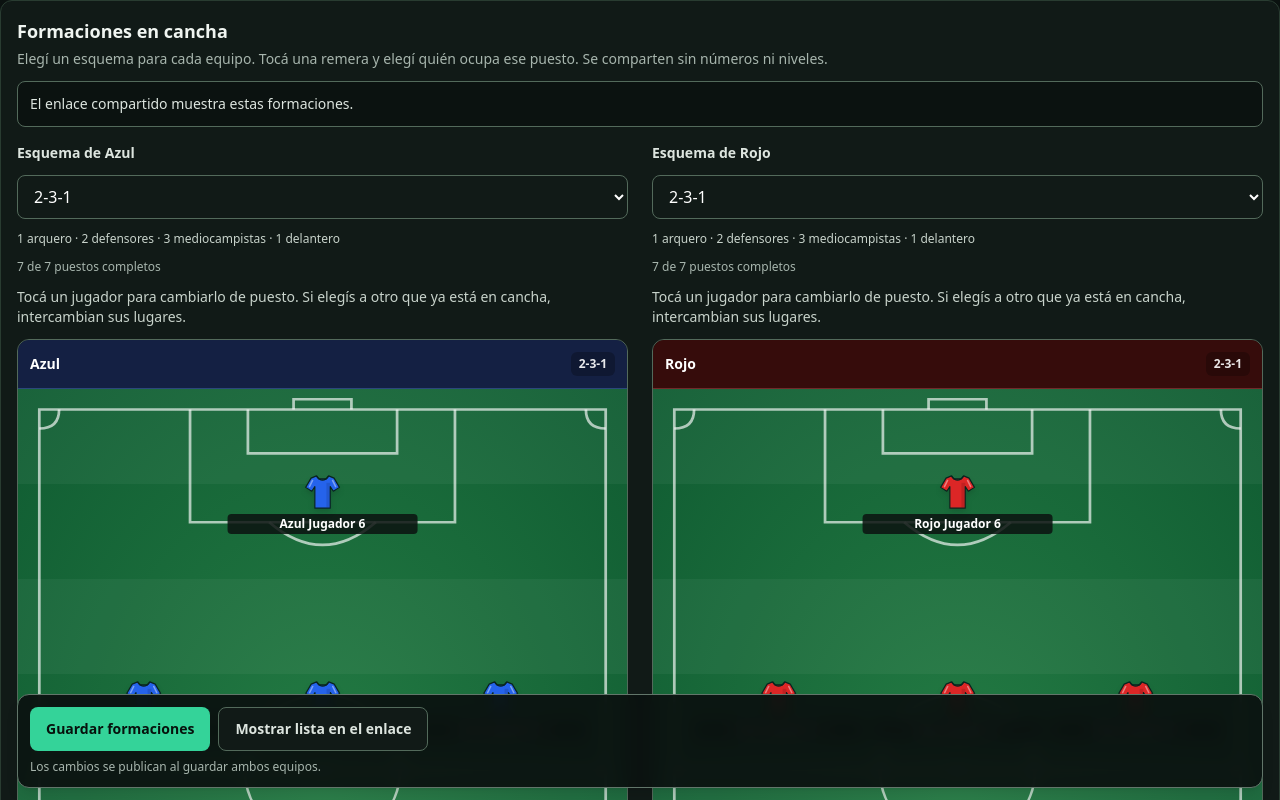
Test: MatchFormationEditor › offers only matching 7v7 schemes and keeps both teams when saving a different shape
Select "3-2-1" in the dropdown labelled "Esquema de Azul": (322, 197) [17,175,628,219]
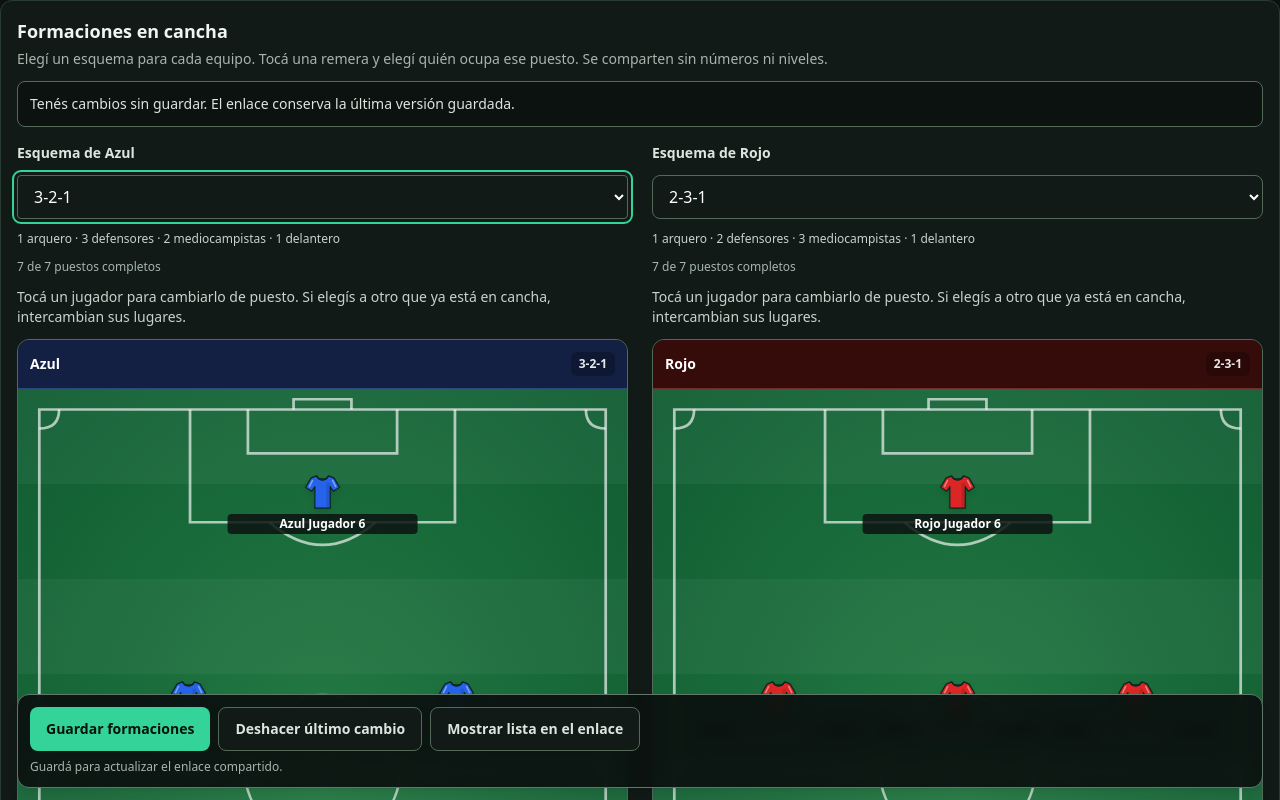
Select "2-2-2" in the dropdown labelled "Esquema de Rojo": (958, 197) [652,175,1263,219]
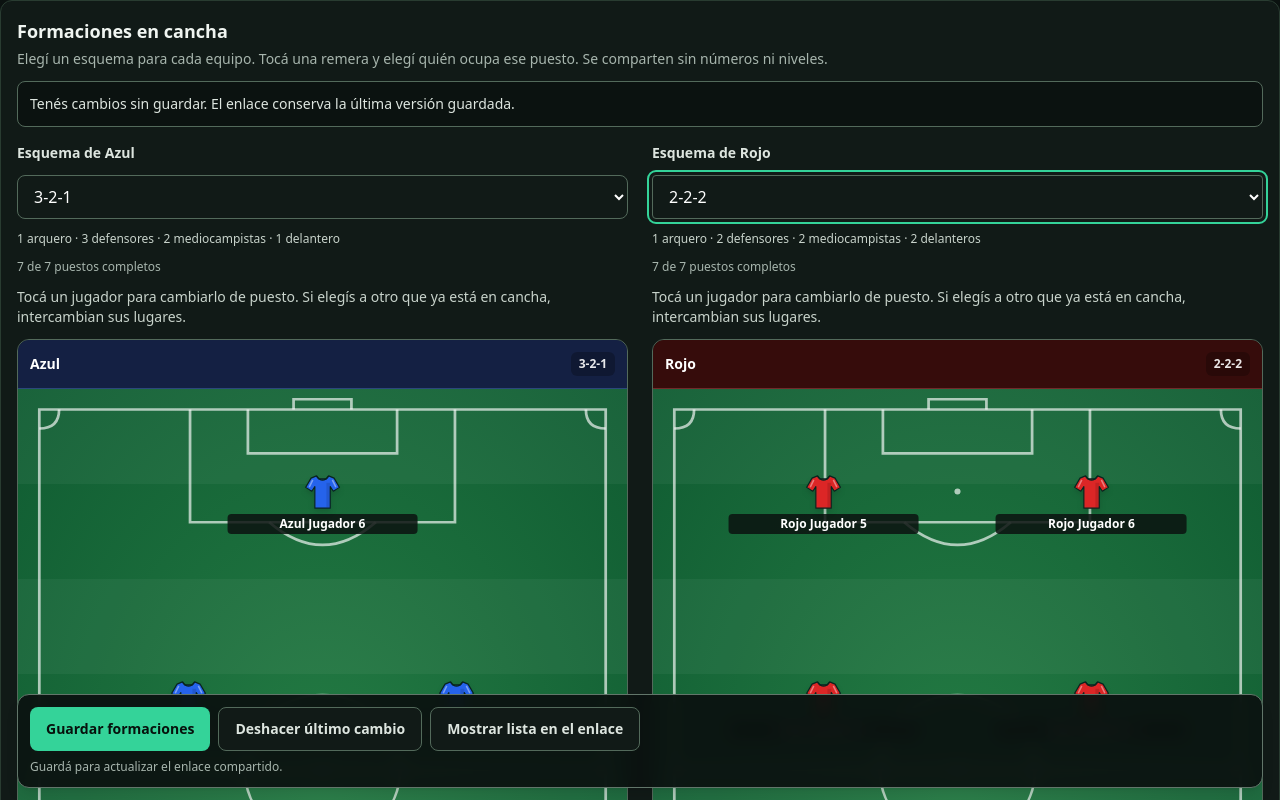
Click the button "Guardar formaciones": (120, 729) [30,707,210,751]
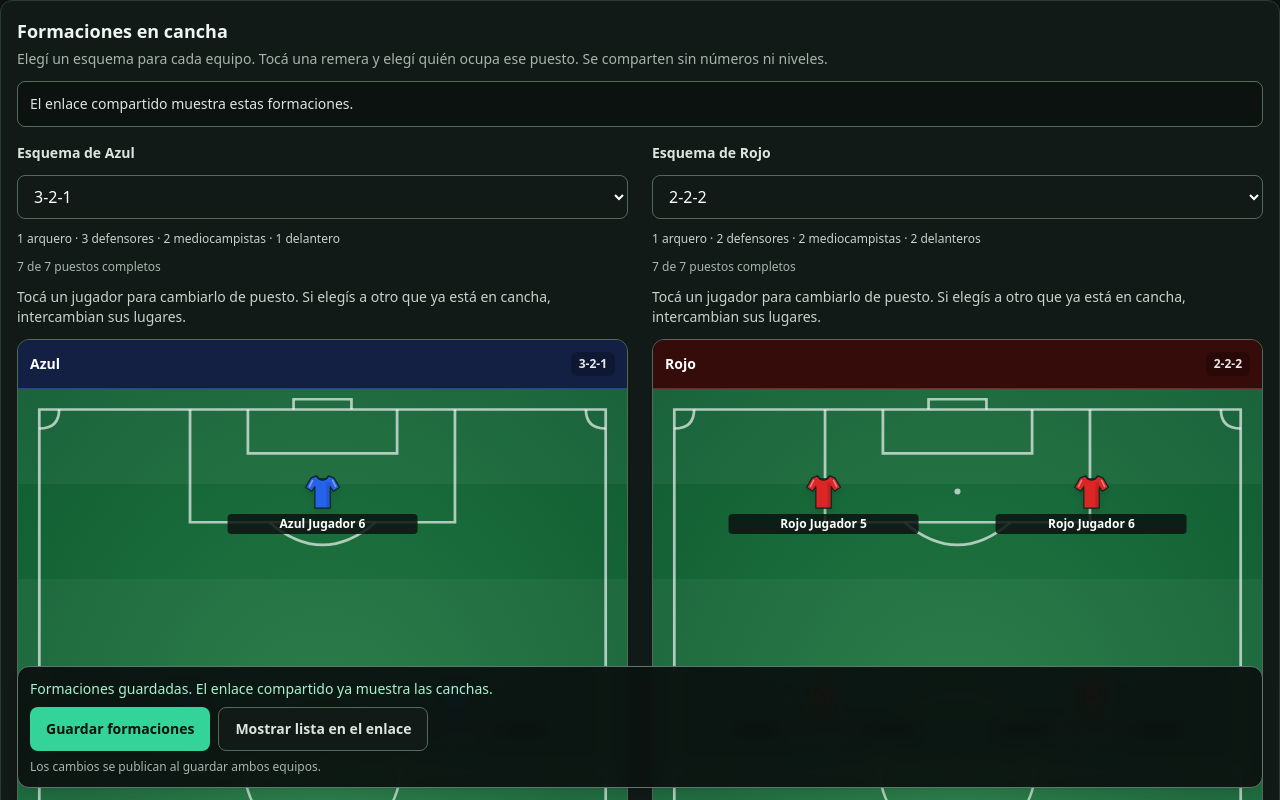
Result: the text "Formaciones guardadas. El enlace compartido ya muestra las canchas." is shown at [30,679,493,698]
